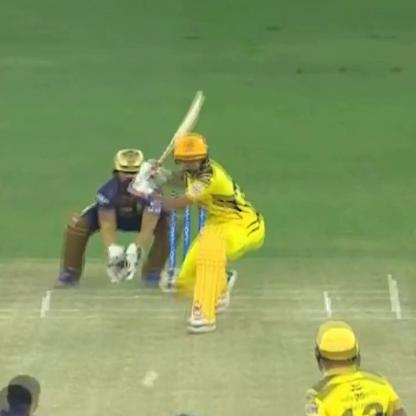ball: (136, 376, 155, 392), (147, 368, 162, 382)
bat: (149, 92, 206, 174)
pitch: (1, 276, 416, 416)
